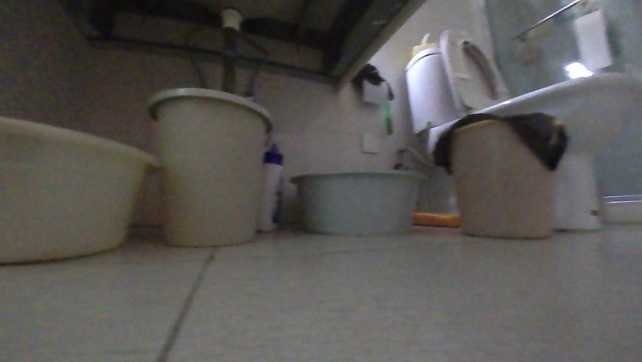toilet: (481, 66, 641, 230)
trash_can: (438, 111, 570, 239)
